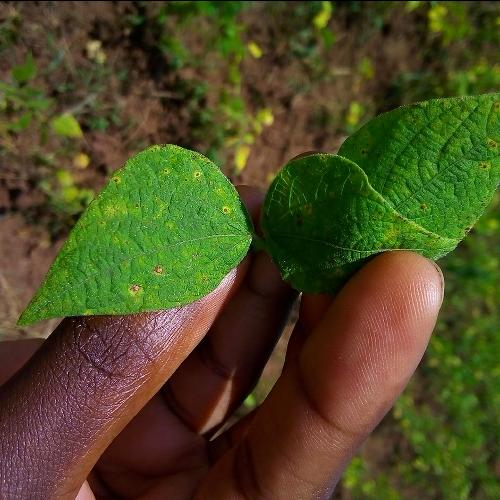embun tepung: (76, 160, 230, 304)
hawar: (308, 107, 490, 242)
